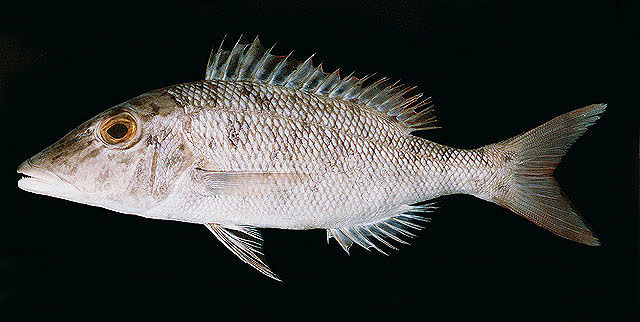fish: (16, 34, 607, 284)
